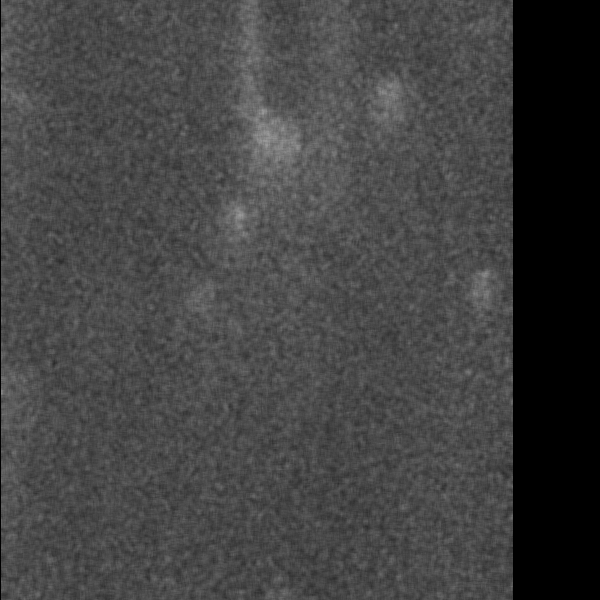spark: (231, 86, 314, 264), (372, 73, 403, 166), (233, 21, 261, 70), (225, 197, 250, 241)
